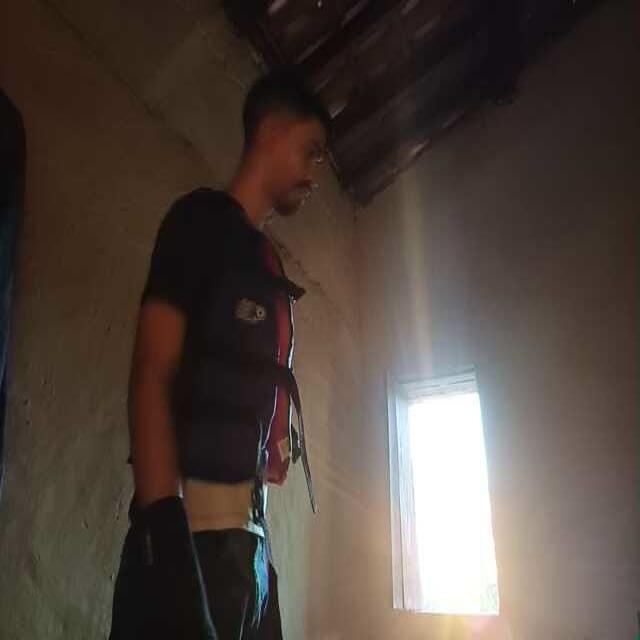colete: (166, 196, 297, 482)
pessoa: (122, 77, 303, 640)
